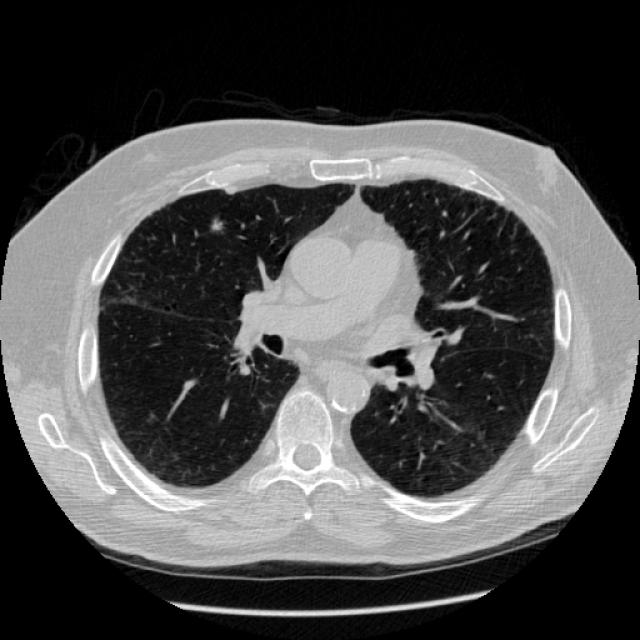nodule: (200, 209, 232, 241)
